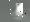person: (13, 5, 23, 20)
